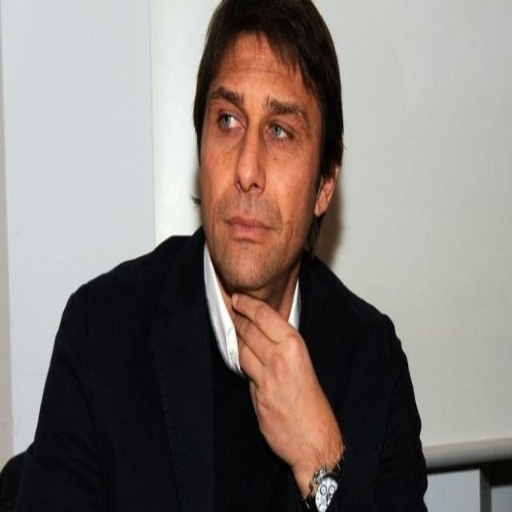hand: (221, 276, 342, 487)
